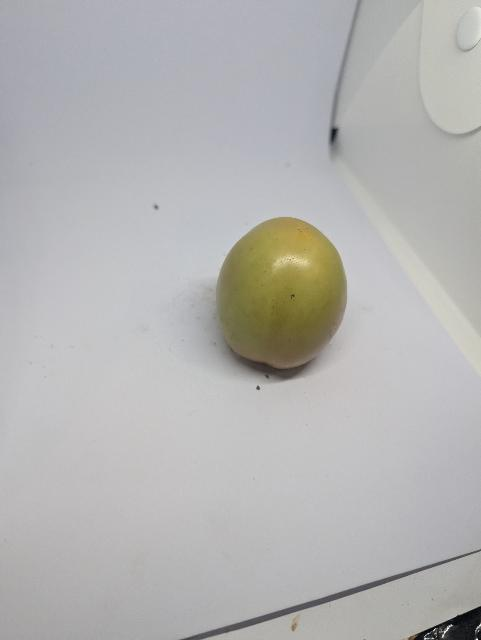breaker: (217, 217, 347, 369)
